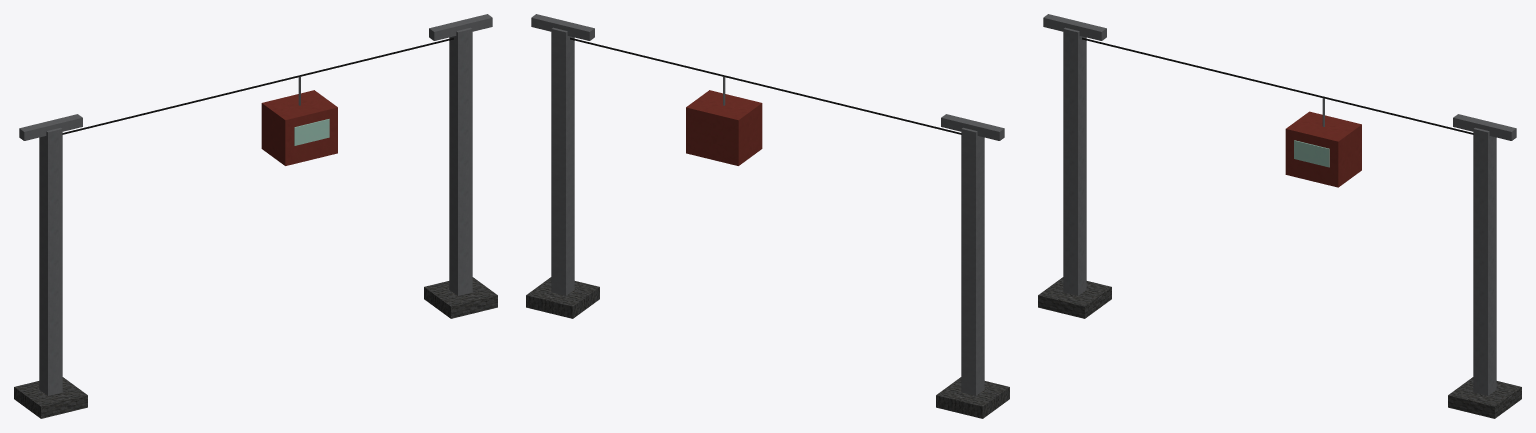
Rendered from frost_cableway_01.glb.
3 renders of one model, left to right at view 1: azimuth 30°, elevation 25°; view 2: azimuth 150°, elevation 25°; view 3: azimuth 330°, elevation 25°, orthographic.
Parts seen in each view (by area): view 1: frost_cableway_01; view 2: frost_cableway_01; view 3: frost_cableway_01.
Part boxes in pixels (x1,y1,x2,y2): frost_cableway_01: (14,14,497,418); frost_cableway_01: (526,14,1009,418); frost_cableway_01: (1038,14,1521,418).
Size of the model in its own units: 16 by 9.15 by 1.6.
5 materials, 5 textured.
